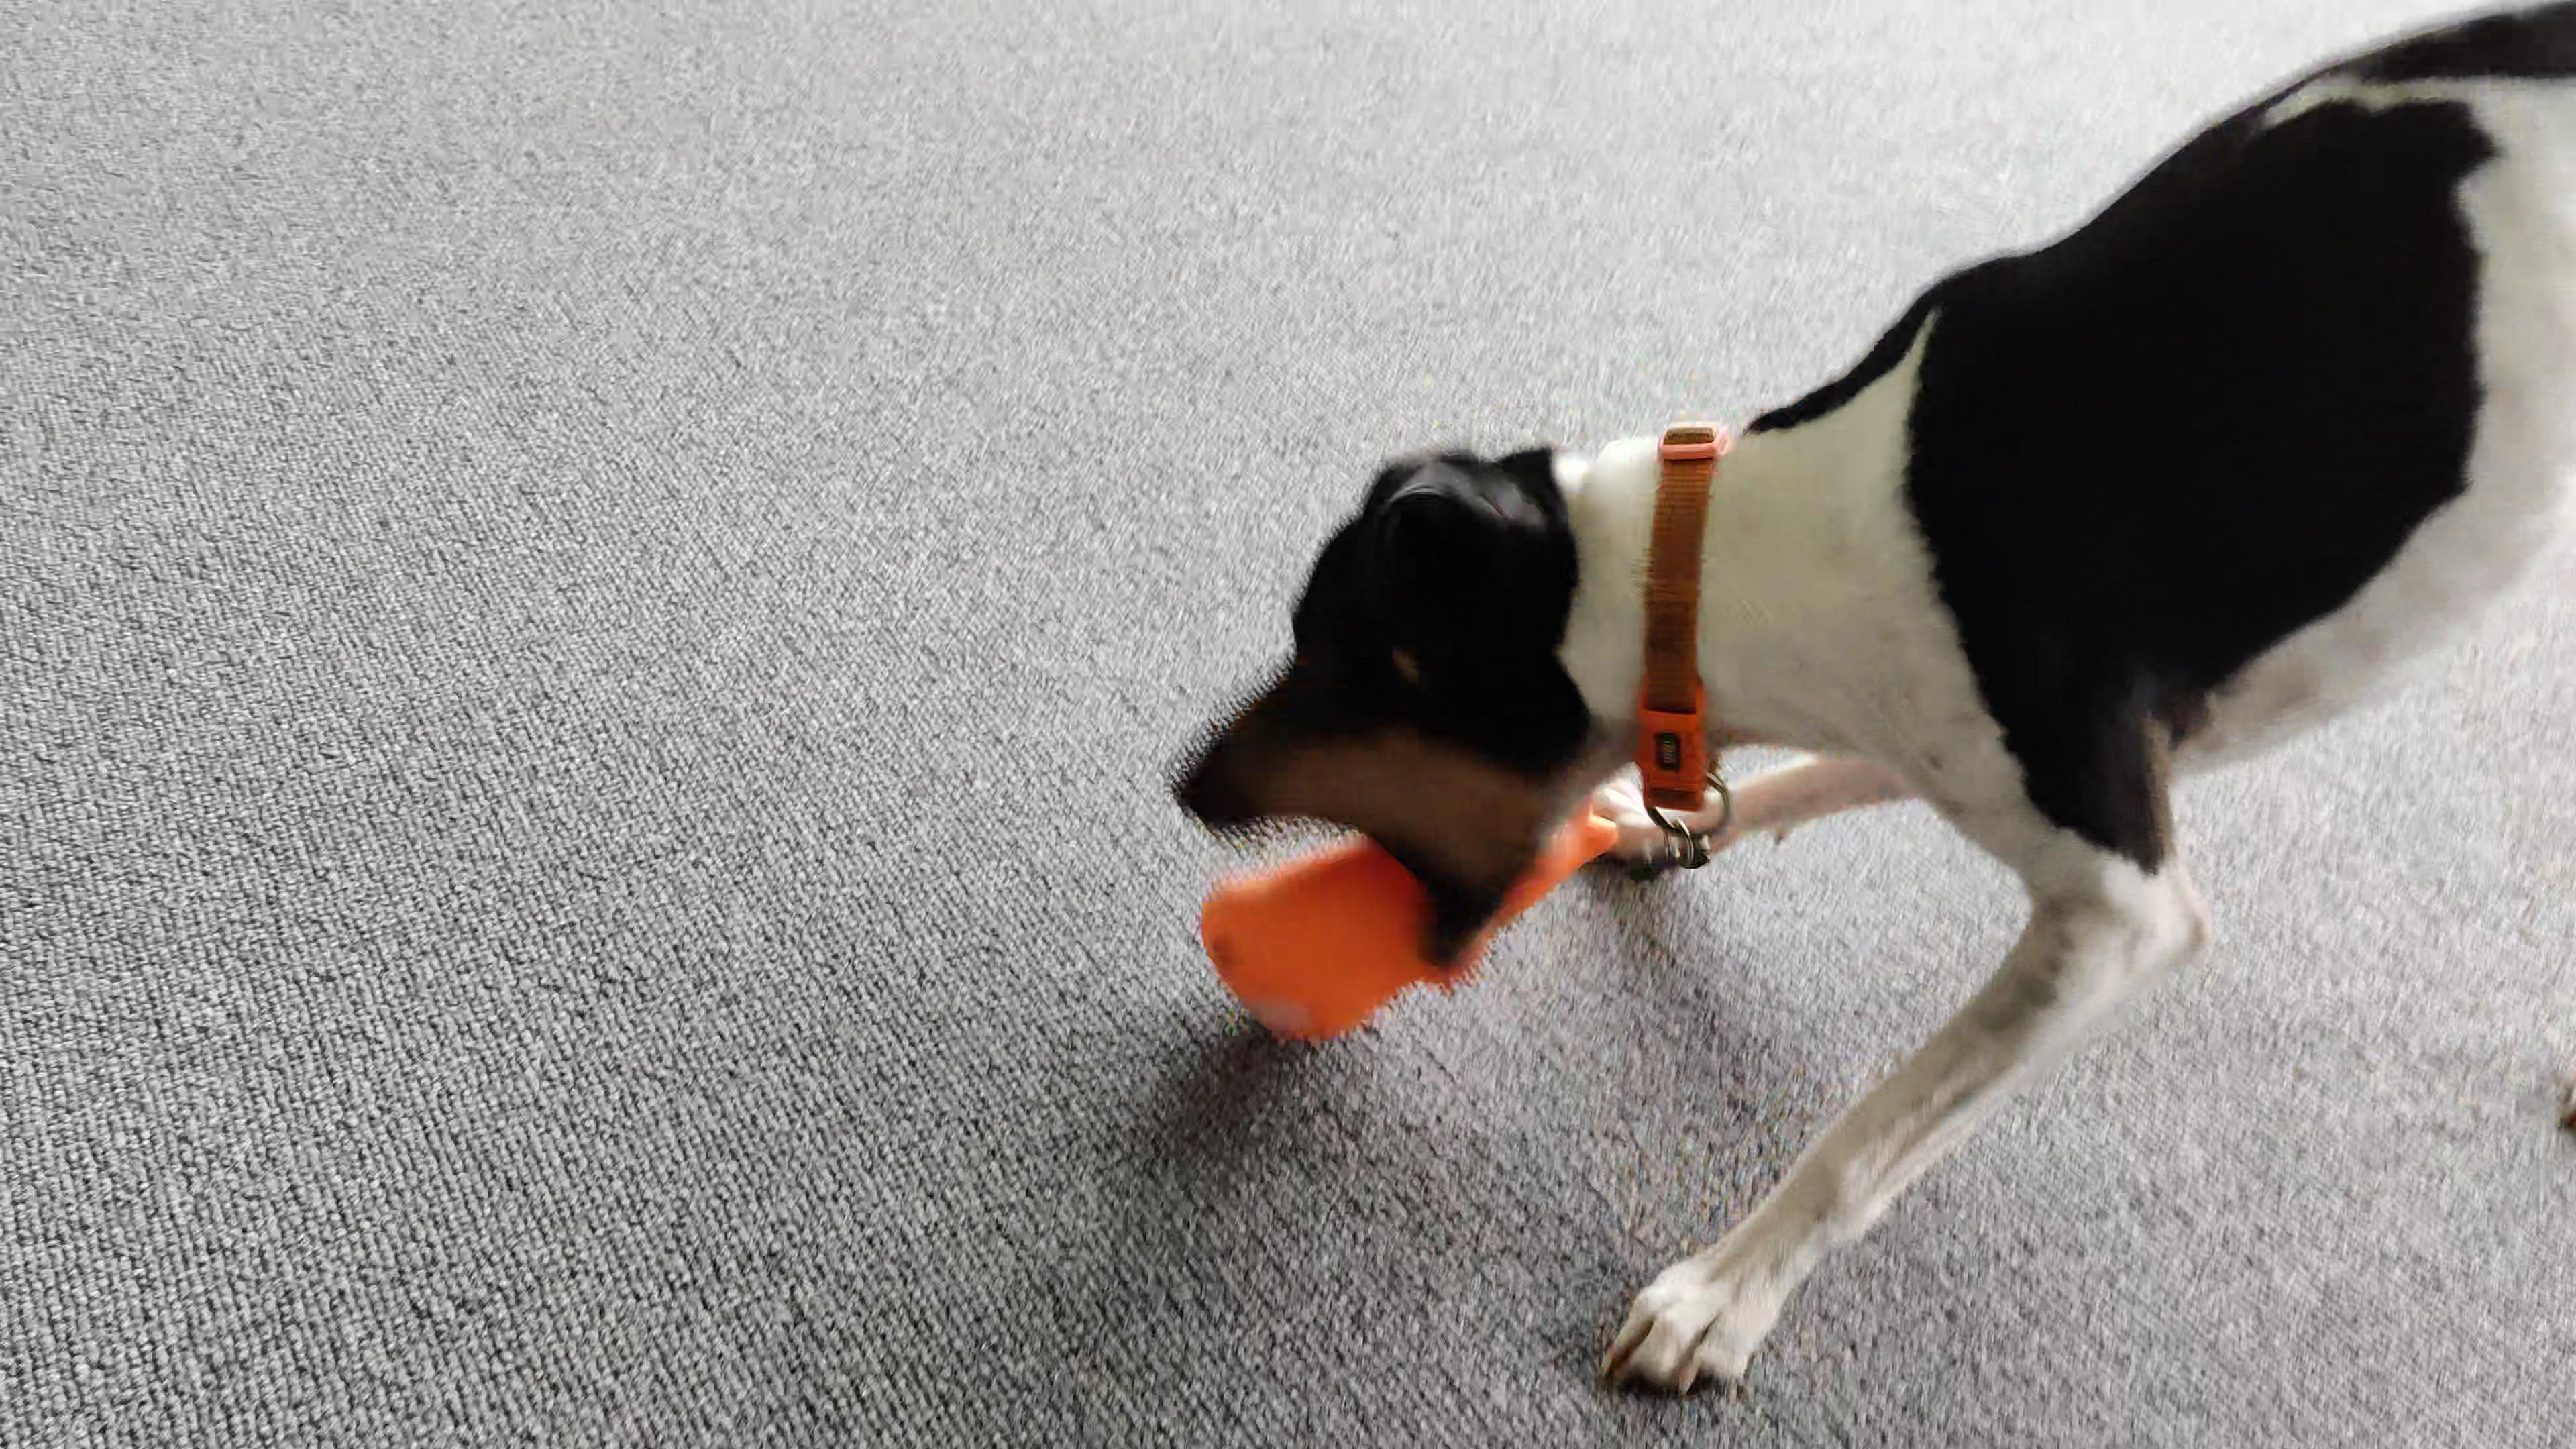Dog: (1159, 0, 2576, 1401)
